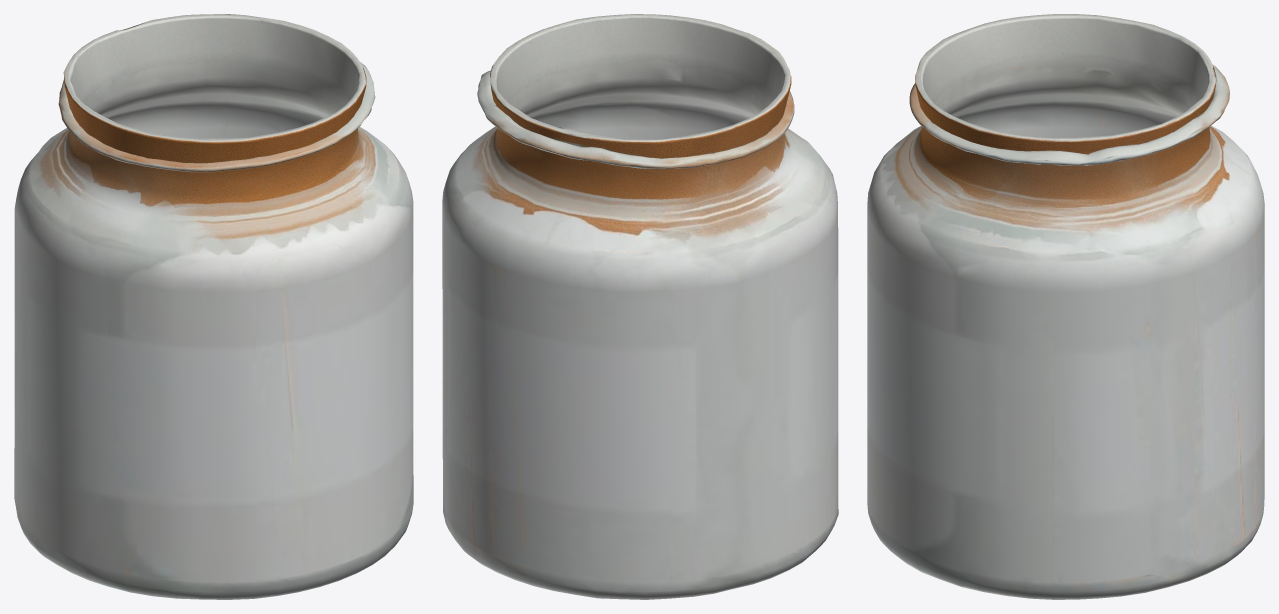
The model's file is salt-jar.glb.
3 views of the same model, side by side, from view 1: azimuth 30°, elevation 25°; view 2: azimuth 150°, elevation 25°; view 3: azimuth 270°, elevation 25° (orthographic).
Bounding box in the file's own units: 0.77 × 0.9512 × 0.7676.
1 material, 1 textured.
